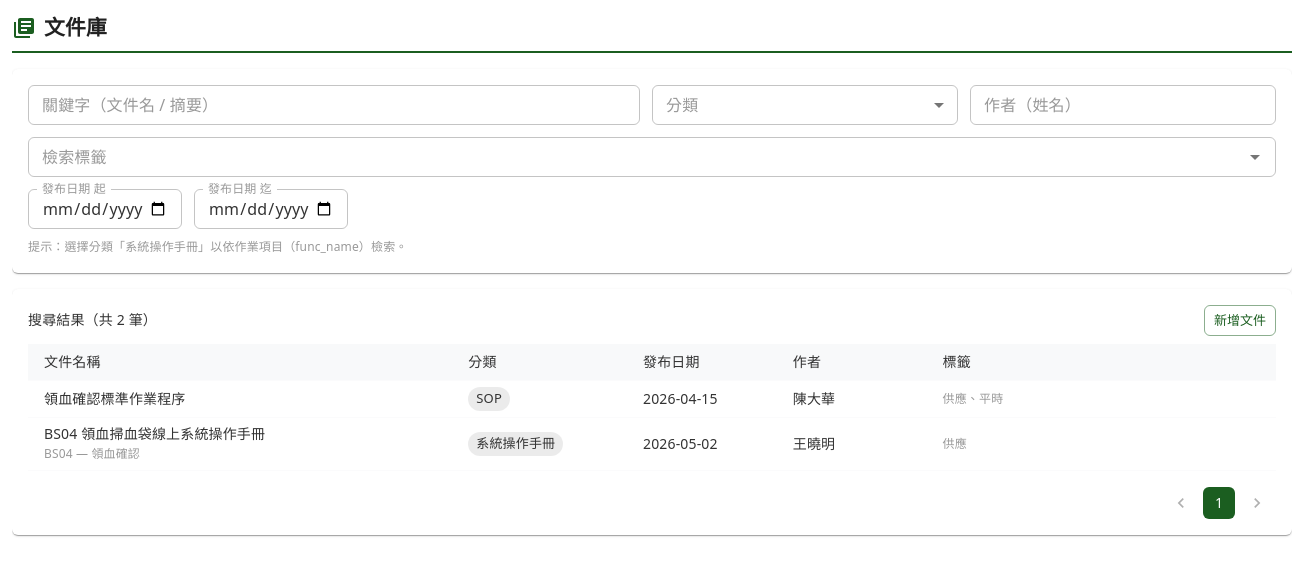
DmLibraryPage 文件庫 › 分類選「系統操作手冊」→ 條件式顯示 func_name 下拉
expect the text "領血確認標準作業程序" is shown: met, box [28, 380, 452, 417]
expect the dropdown labelled "關聯作業項目" is not shown: met
Click the dropdown named "分類". click: coordinates (805, 105)
box: [652, 85, 958, 125]
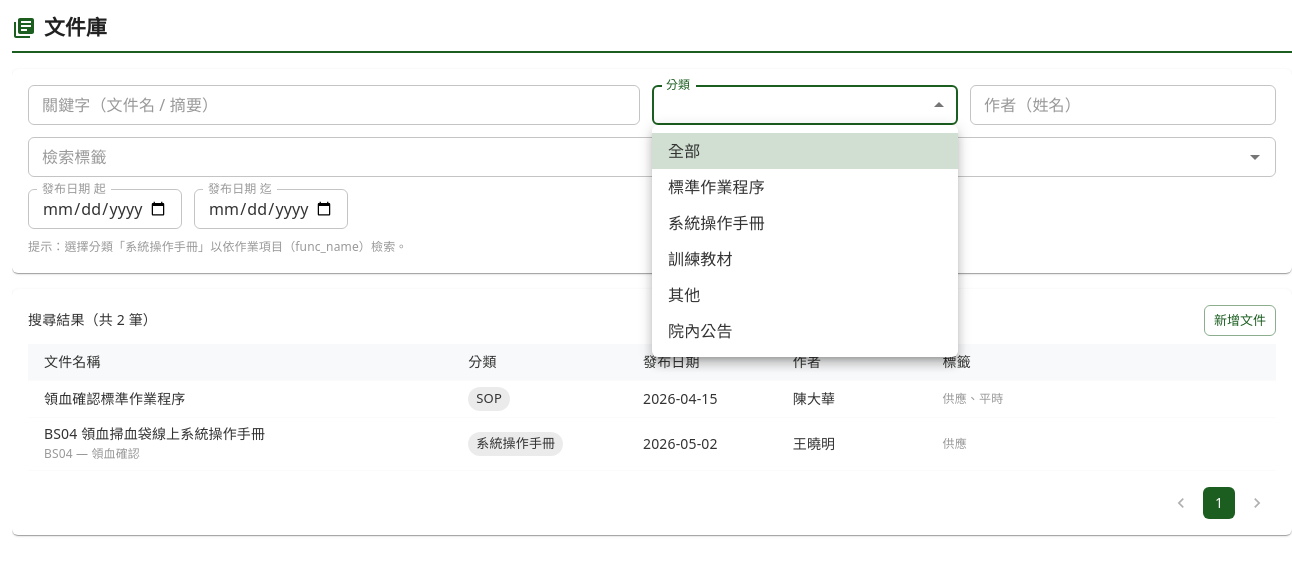
Click the option "系統操作手冊". click: coordinates (716, 223)
box: [668, 212, 765, 234]
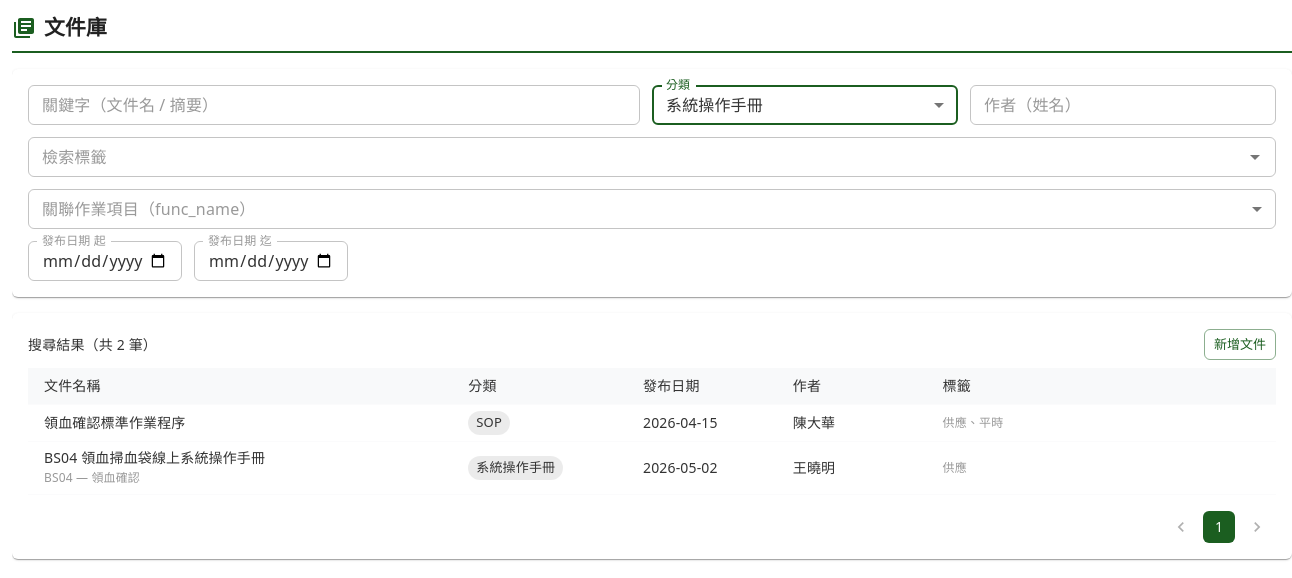
expect the dropdown named "關聯作業項目" is shown: met, box [28, 189, 1276, 229]
